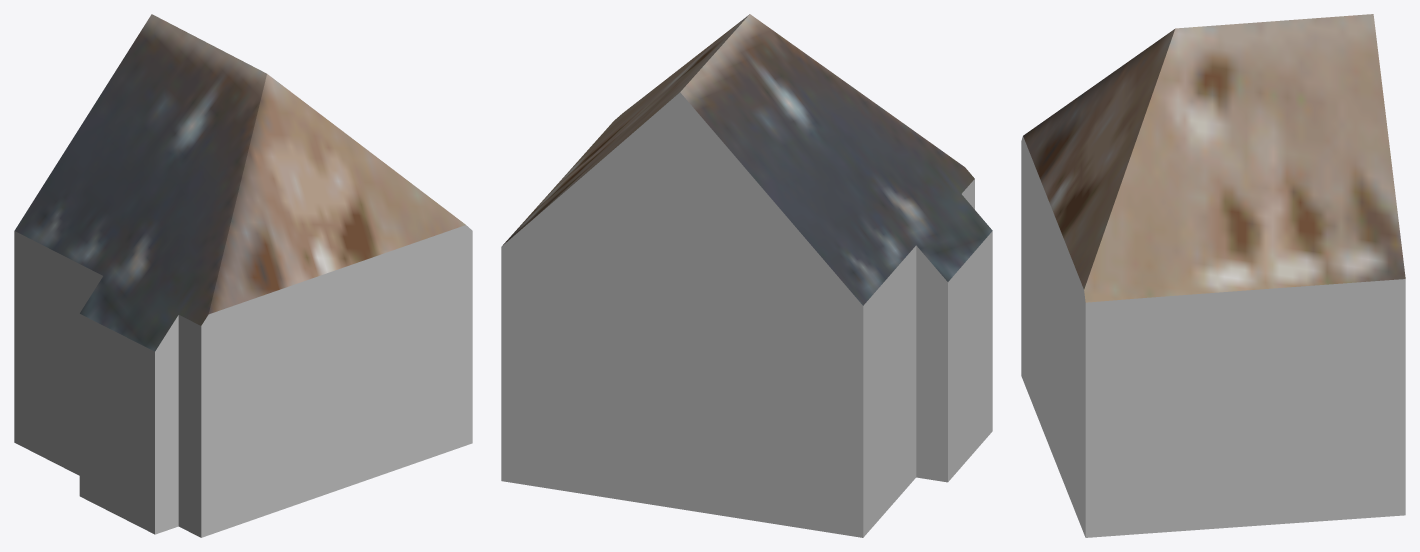
Rendered from DEBW_0010007Txer.gltf.
3 renders of one model, left to right at view 1: azimuth 30°, elevation 25°; view 2: azimuth 150°, elevation 25°; view 3: azimuth 270°, elevation 25°, orthographic. The views are drawn at different scales.
Visible parts, largest first — view 1: Z_UP; view 2: Z_UP; view 3: Z_UP.
Boxes of the visible parts, left/top/right/bottom form: Z_UP: left=14, top=14, right=472, bottom=537; Z_UP: left=501, top=14, right=992, bottom=537; Z_UP: left=1021, top=14, right=1405, bottom=537.
Bounding box in the file's own units: 13.09 × 13.64 × 11.29.
2 materials, 1 textured.
